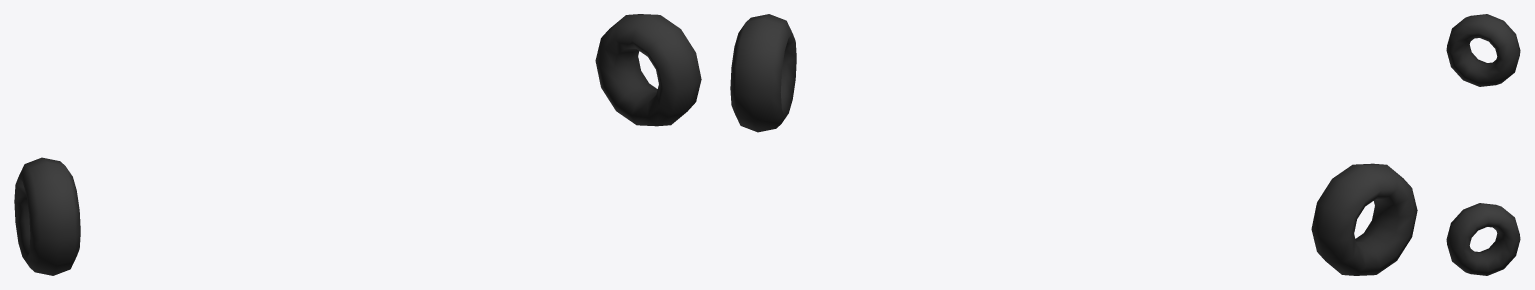
Rendered from Earring_5.fbx.
The picture shows the model from 3 angles, left to right: view 1: azimuth 30°, elevation 25°; view 2: azimuth 150°, elevation 25°; view 3: azimuth 270°, elevation 25°; orthographic projection. The views are drawn at different scales.
Visible parts, largest first — view 1: Earring_5; view 2: Earring_5; view 3: Earring_5.
Part boxes in pixels (x1,y1,x2,y2): Earring_5: [14, 14, 701, 275]; Earring_5: [730, 14, 1417, 275]; Earring_5: [1446, 14, 1520, 275].
Bounding box in the file's own units: 55.18 × 8.56 × 8.24.
